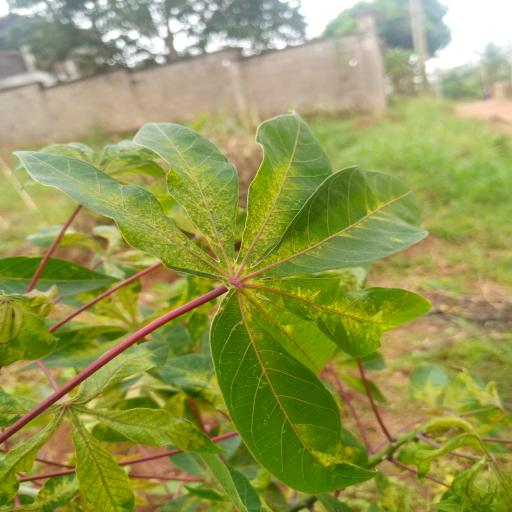Cassava_Mosaic: (8, 112, 448, 500)
